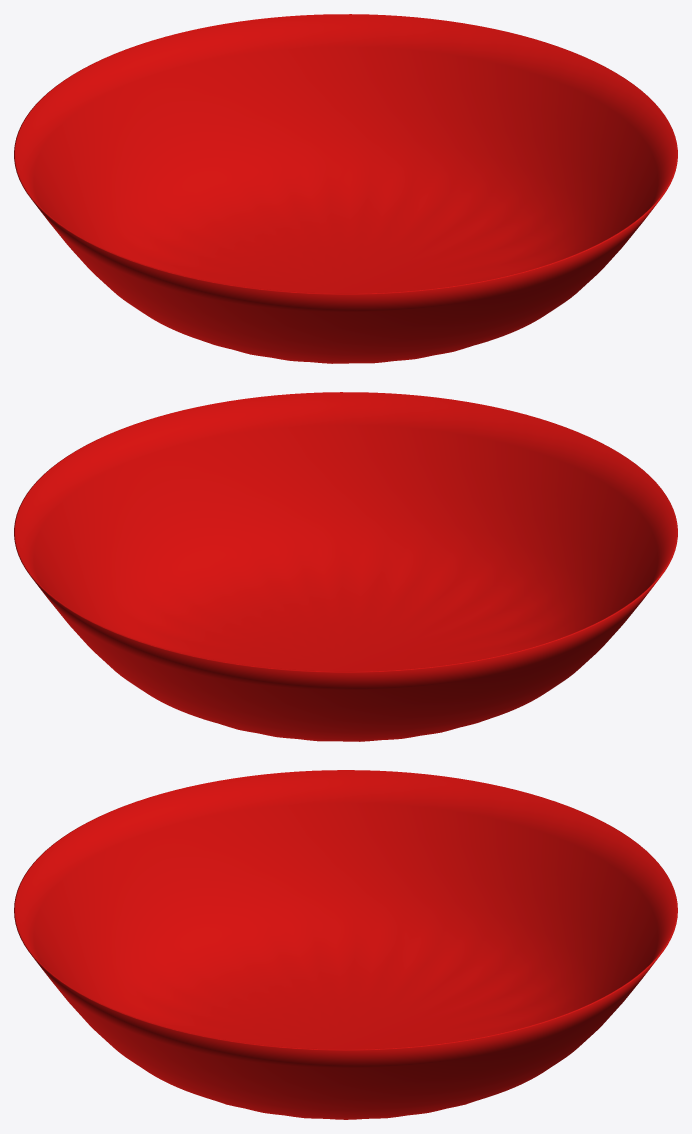
File: Teller4.fbx
3 views of the same model, one above another, from view 1: azimuth 30°, elevation 25°; view 2: azimuth 150°, elevation 25°; view 3: azimuth 270°, elevation 25° (orthographic).
Visible parts, largest first — view 1: Circle; view 2: Circle; view 3: Circle.
Boxes of the visible parts, x1,y1,x2,y2 form: Circle: (14,14,677,363); Circle: (14,392,677,741); Circle: (14,770,677,1119).
Bounding box in the file's own units: 150 × 35 × 150.
